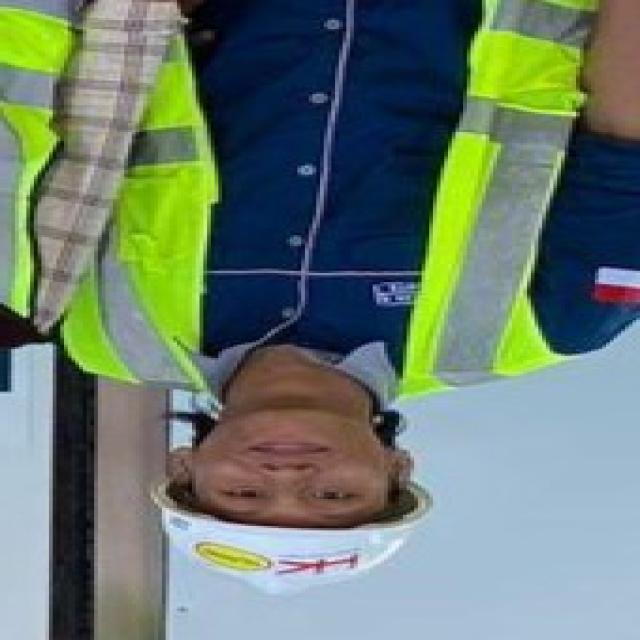safetyhelmet: (144, 437, 432, 594)
